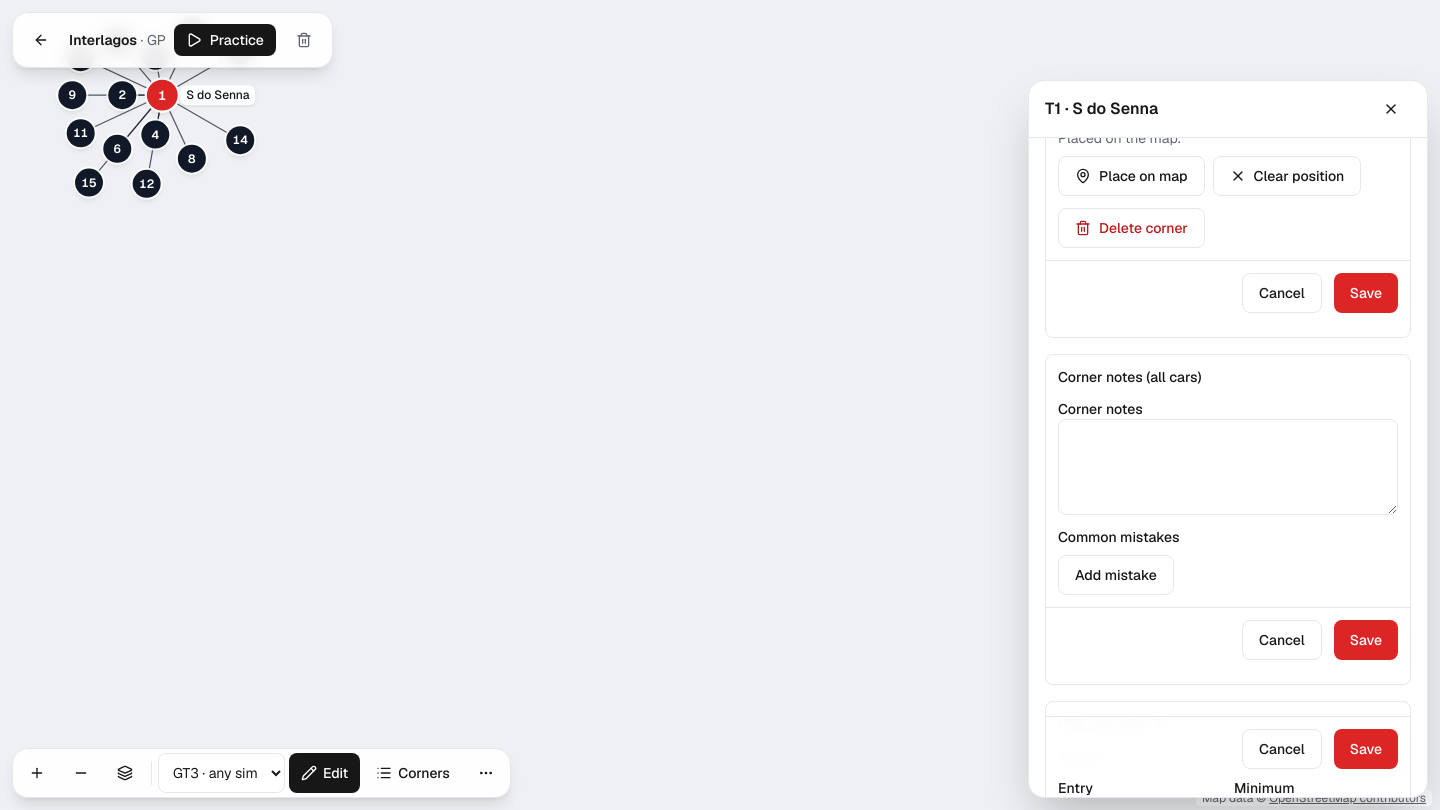
it: TrackViewPage edit mode › closes only the dialog on Escape, leaving the panel open
(page scrolled)
Step 1. Type "x" into the text box labelled "Corner notes" → [1228, 467], box left=1058, top=419, right=1398, bottom=515
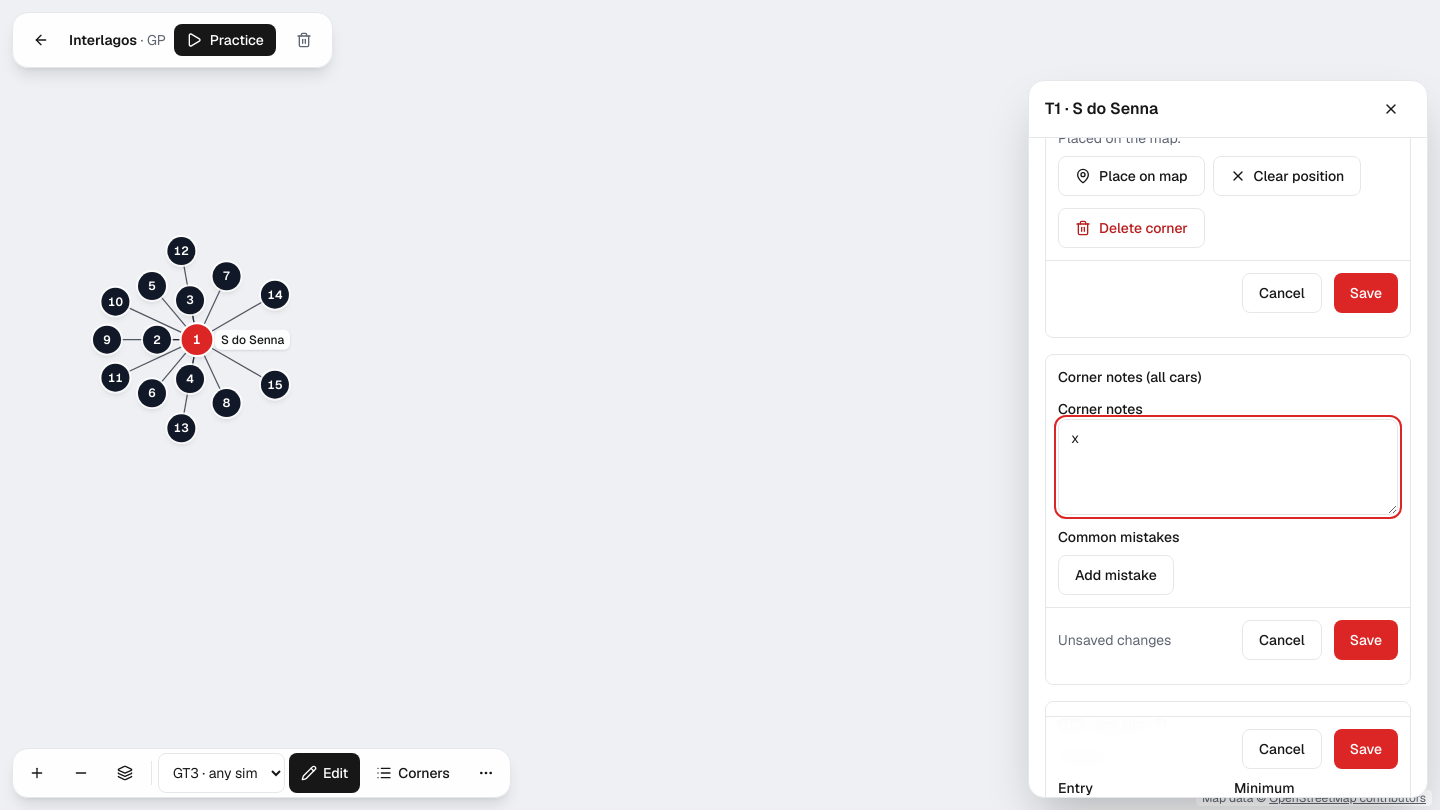
Step 2. Click the button named "Turn 2," → [157, 340], box left=143, top=326, right=171, bottom=354
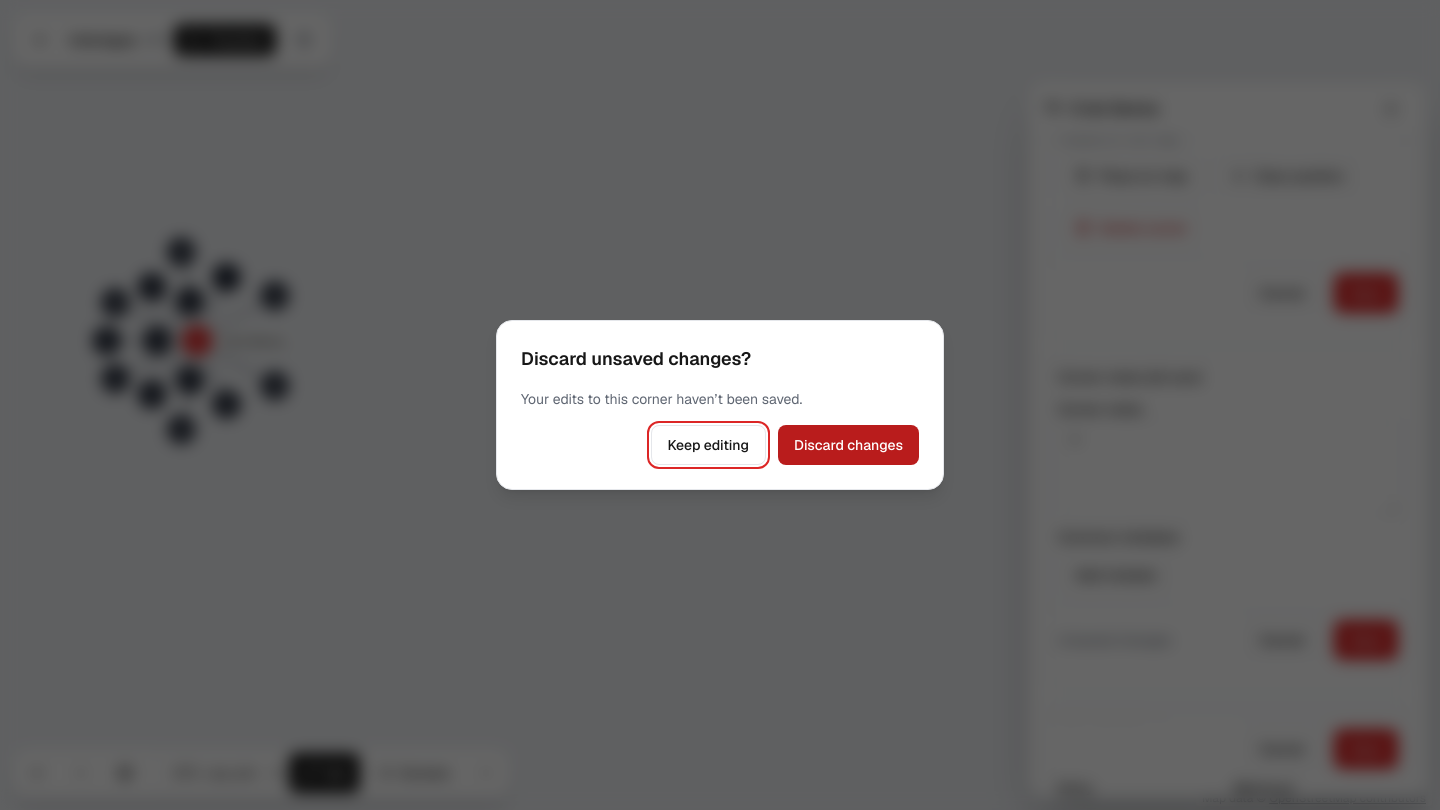
Step 3. Press Escape
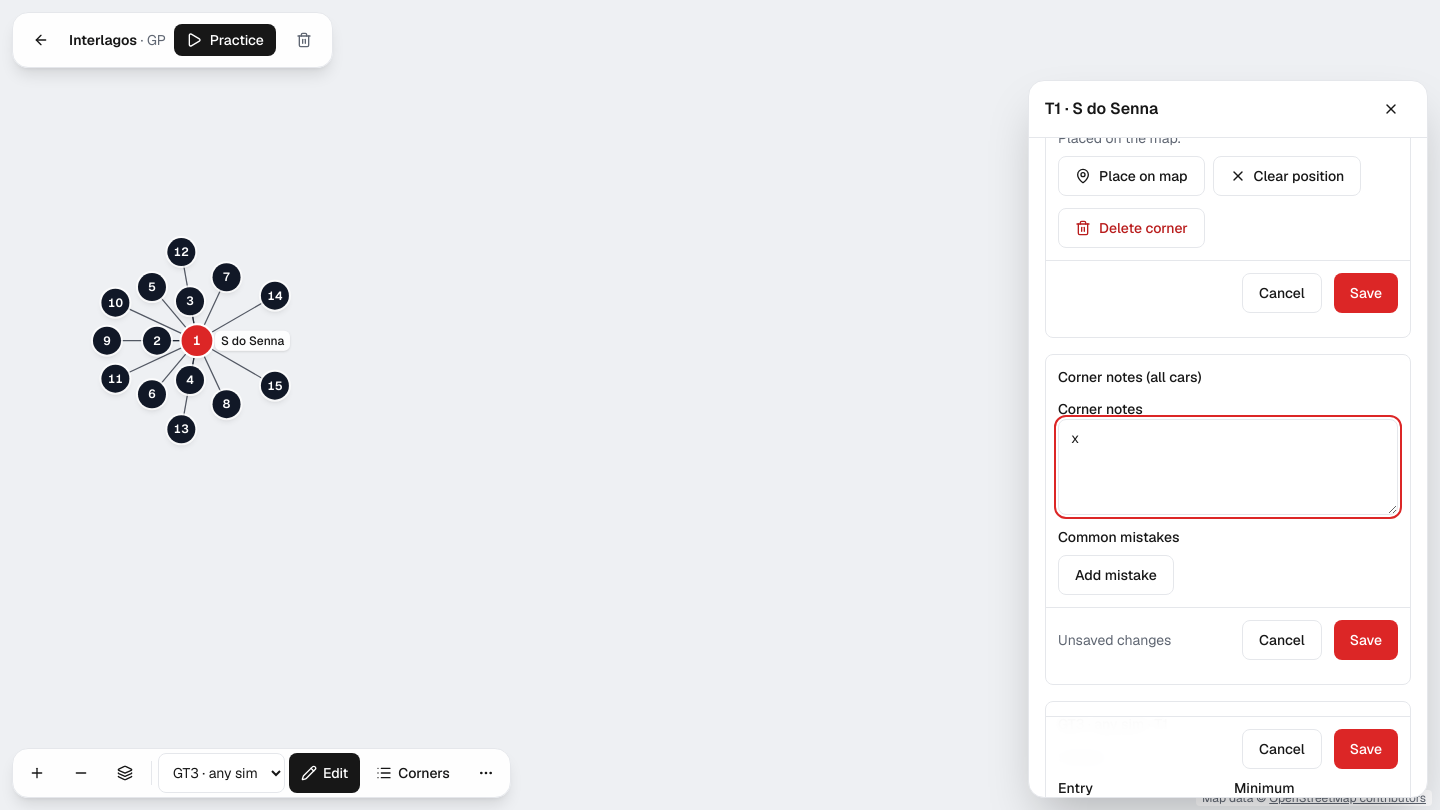
Check: the element with test id "side-panel" is shown, box left=1028, top=80, right=1428, bottom=798
Check: the dialog is gone
